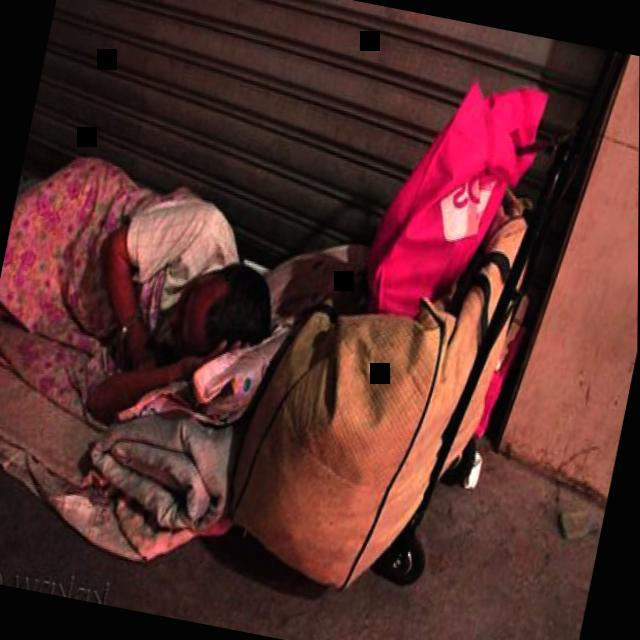Fall-Detected: (0, 134, 321, 397)
